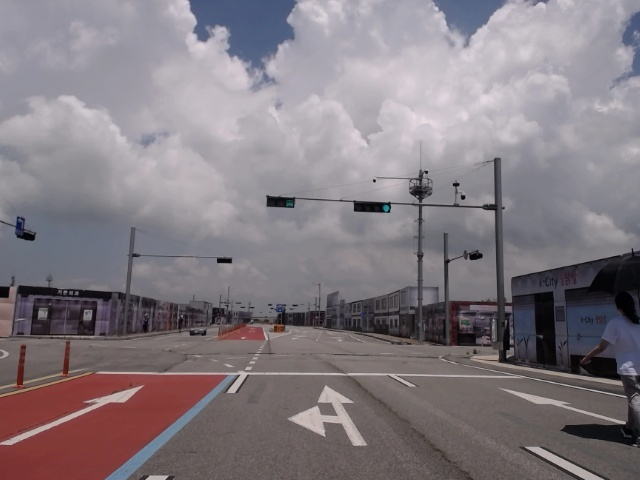straight_green_4: (356, 201, 391, 212)
